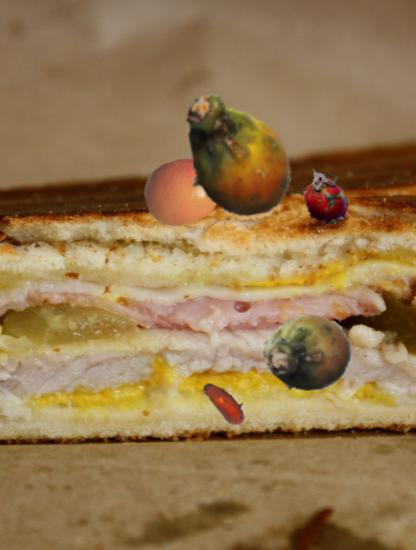Banana: (199, 375, 253, 429)
Cactus: (173, 89, 303, 219), (265, 311, 350, 396)
Grapefruit: (143, 153, 221, 231)
Pitahaya: (294, 167, 355, 228)
